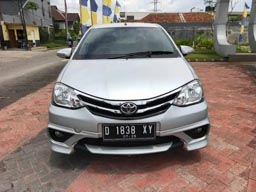plat: (103, 125, 155, 135)
